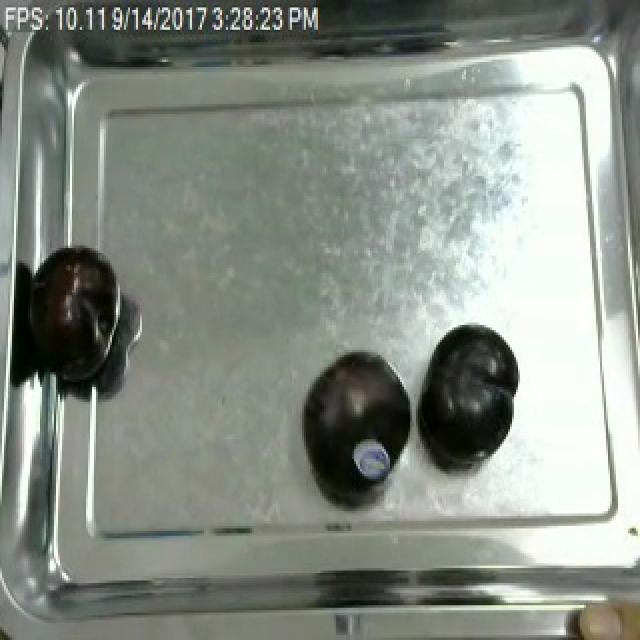Fruit: (414, 317, 524, 469), (296, 345, 416, 476), (34, 240, 128, 390), (320, 407, 398, 484), (350, 434, 394, 484)
